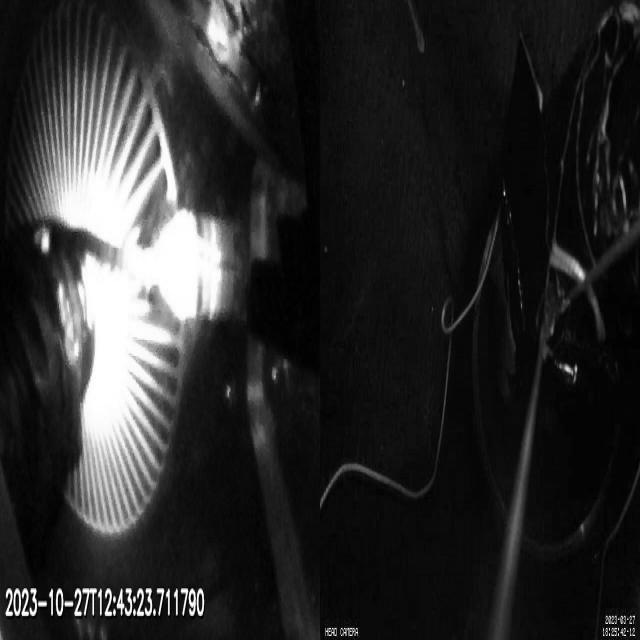head: (166, 208, 246, 324)
